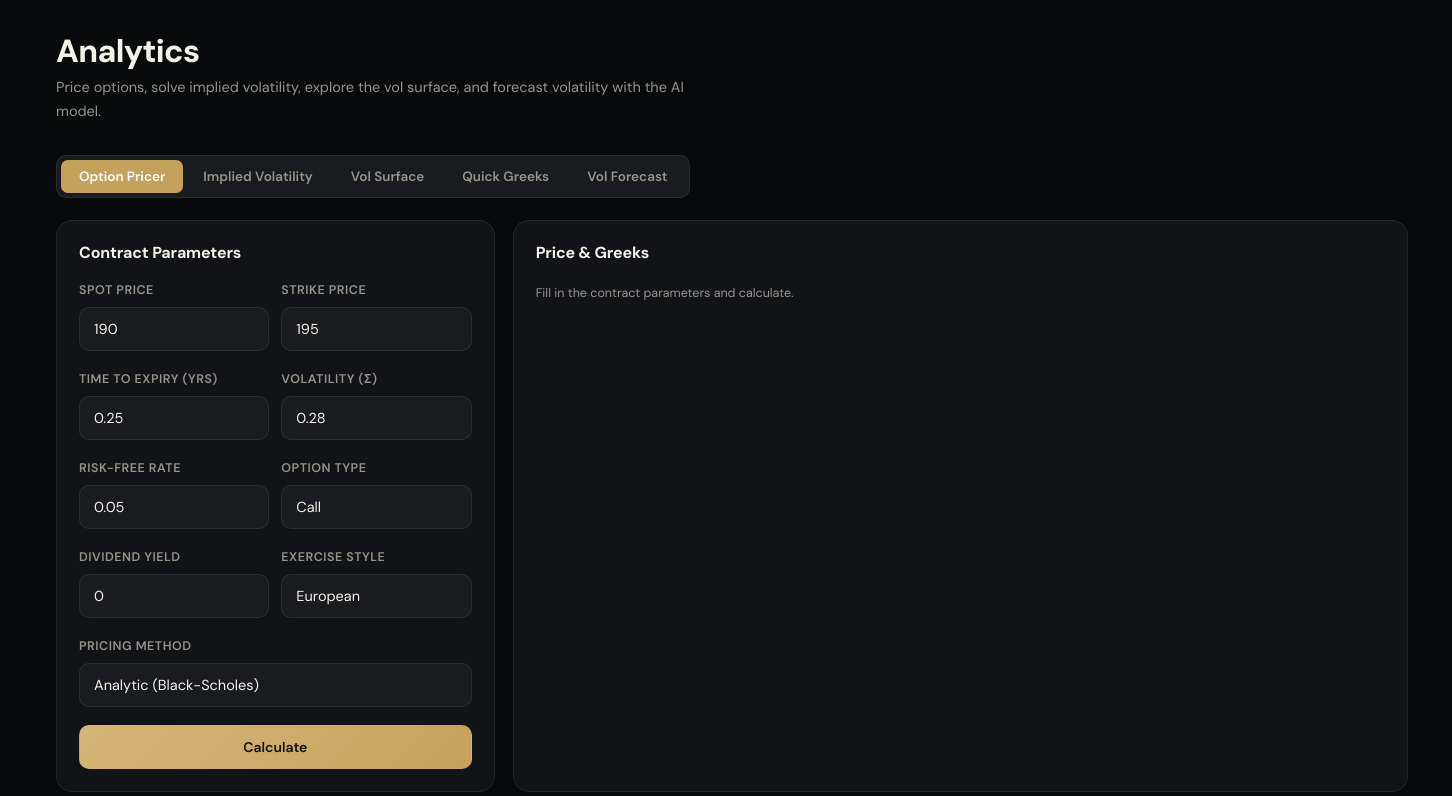
Test: tabs › switches to Vol Surface
Step 1. Click the button "Vol Surface" → [388, 176], box [333, 160, 442, 193]
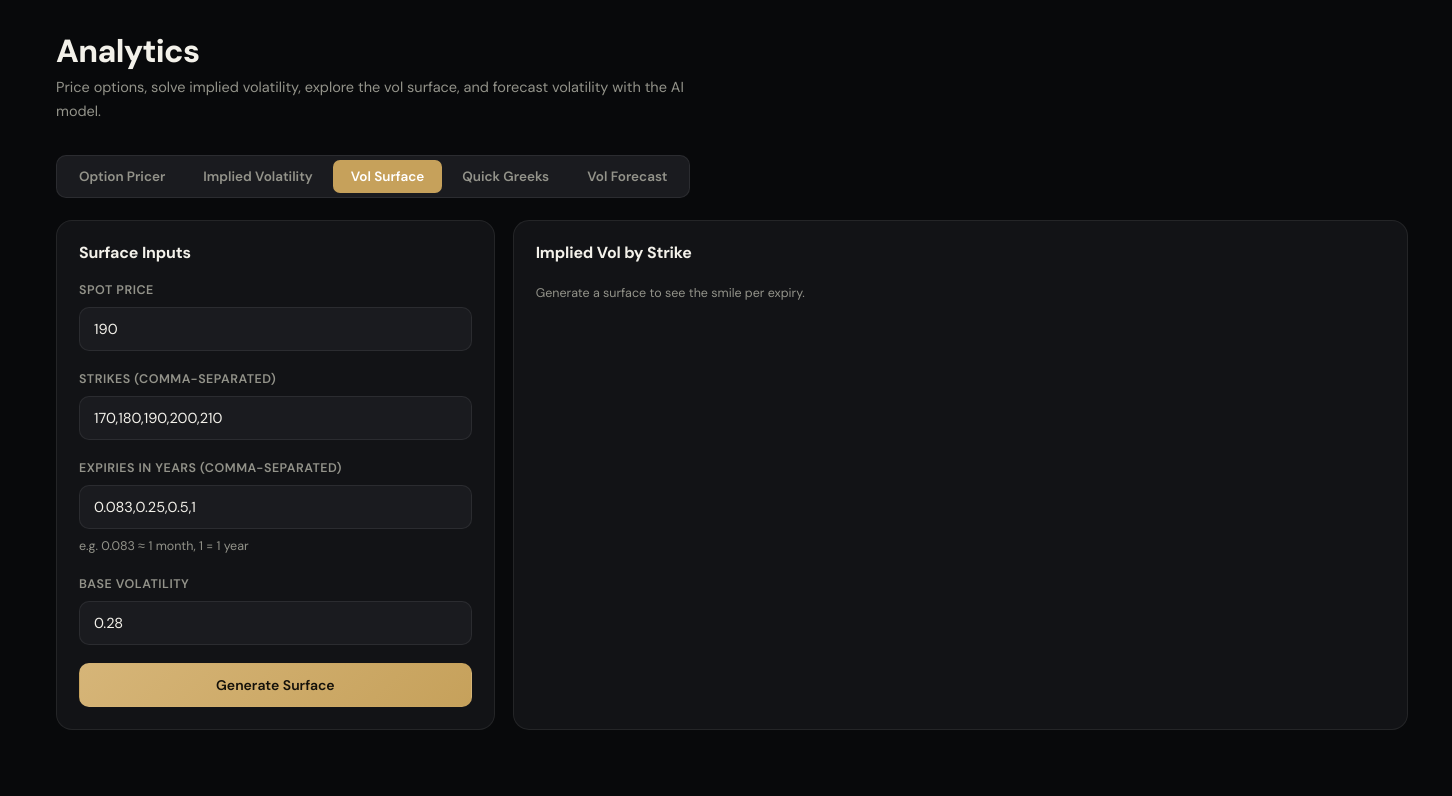
Check: the heading "Surface Inputs" is shown, box [79, 243, 191, 262]
